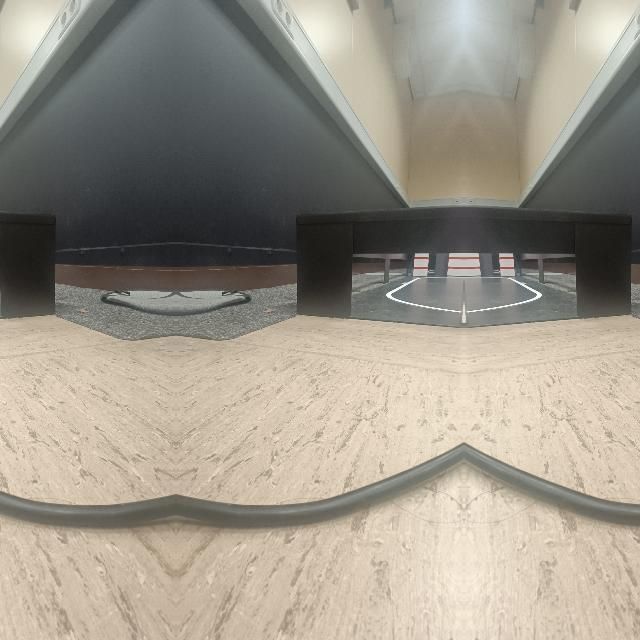obstacle: (175, 446, 463, 530), (292, 211, 463, 315), (463, 211, 634, 315), (464, 445, 640, 530), (0, 445, 175, 530), (0, 211, 57, 315)
